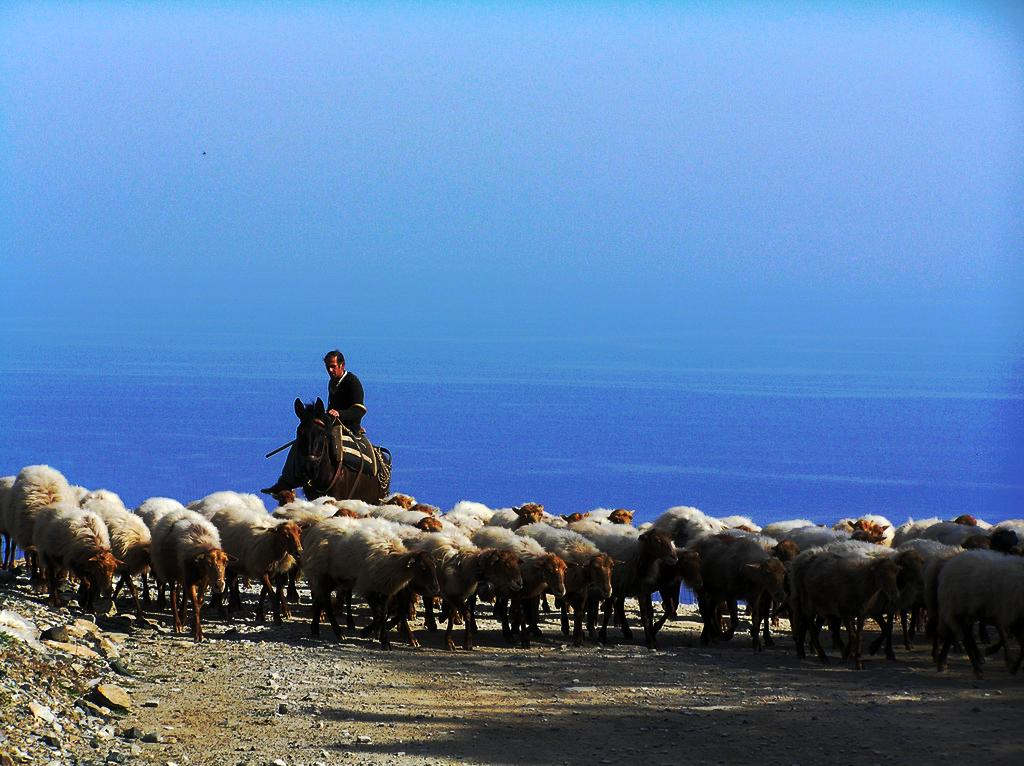Sheep: (306, 518, 444, 646), (788, 547, 913, 669), (198, 497, 310, 623), (692, 534, 795, 658), (510, 531, 621, 645), (145, 504, 238, 640), (931, 548, 1022, 680), (82, 482, 159, 624), (266, 497, 348, 618), (30, 501, 120, 611), (430, 538, 516, 650), (598, 526, 676, 649), (2, 464, 80, 578), (126, 496, 188, 608), (515, 520, 603, 563), (794, 536, 903, 566), (650, 506, 729, 546), (894, 517, 996, 547), (764, 524, 852, 552), (270, 496, 341, 530), (189, 490, 267, 519), (468, 523, 526, 558), (357, 500, 438, 524), (837, 514, 895, 546), (132, 496, 186, 530), (440, 500, 494, 530), (896, 537, 958, 562), (484, 502, 536, 530), (80, 488, 126, 516), (576, 507, 634, 527), (760, 519, 820, 538), (322, 498, 380, 517), (718, 515, 762, 531), (540, 512, 570, 526), (830, 518, 860, 532), (966, 517, 994, 531), (69, 486, 90, 504), (308, 495, 340, 506)
